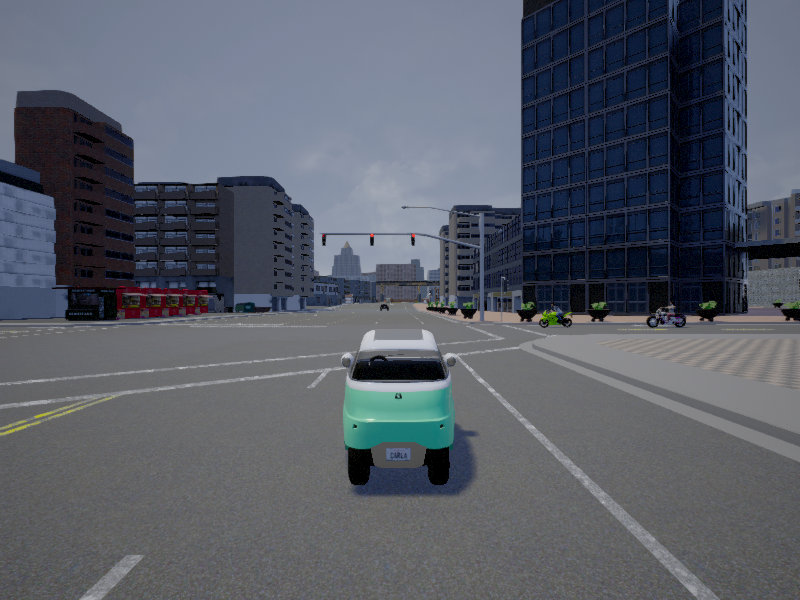Benign: (343, 330, 455, 485), (645, 301, 686, 330), (538, 304, 572, 327)
